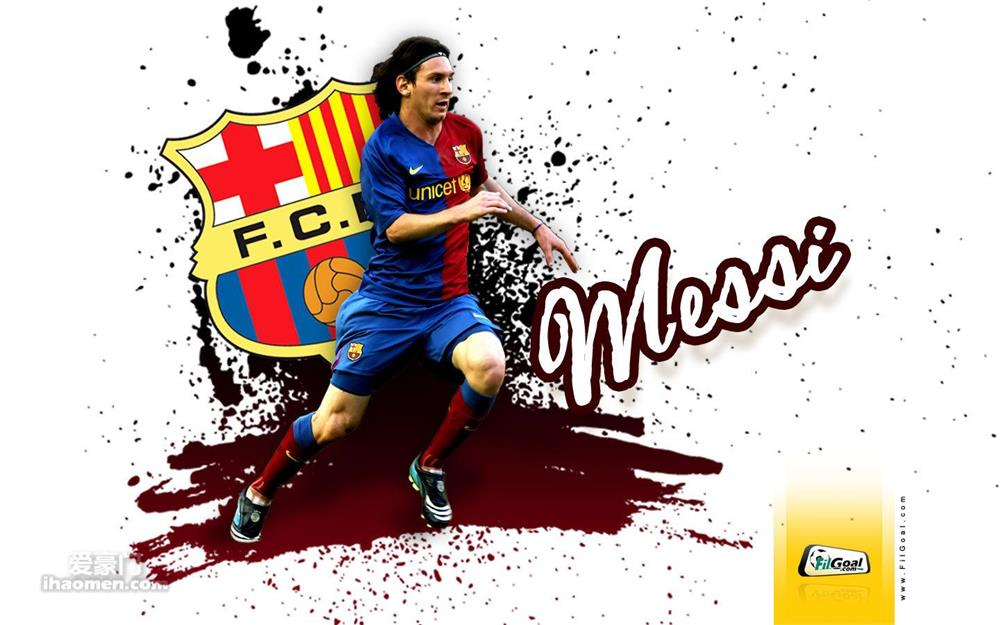BarcelonaFC: (167, 67, 441, 354)
